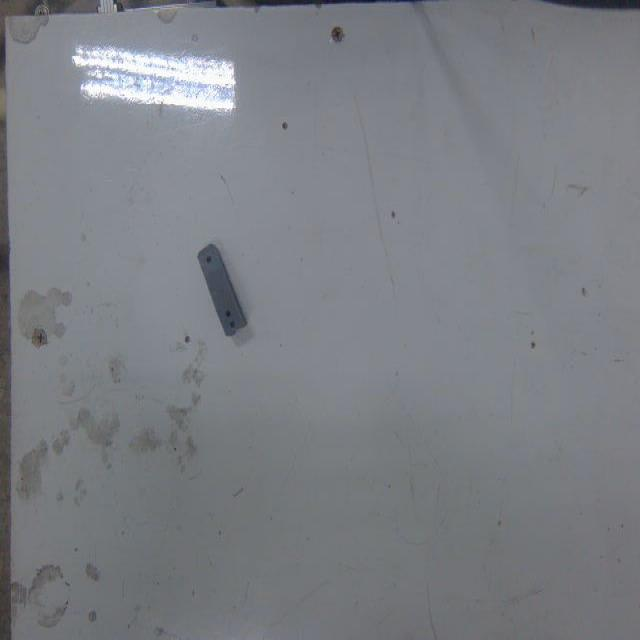grey: (199, 244, 250, 341)
head: (204, 255, 213, 265)
